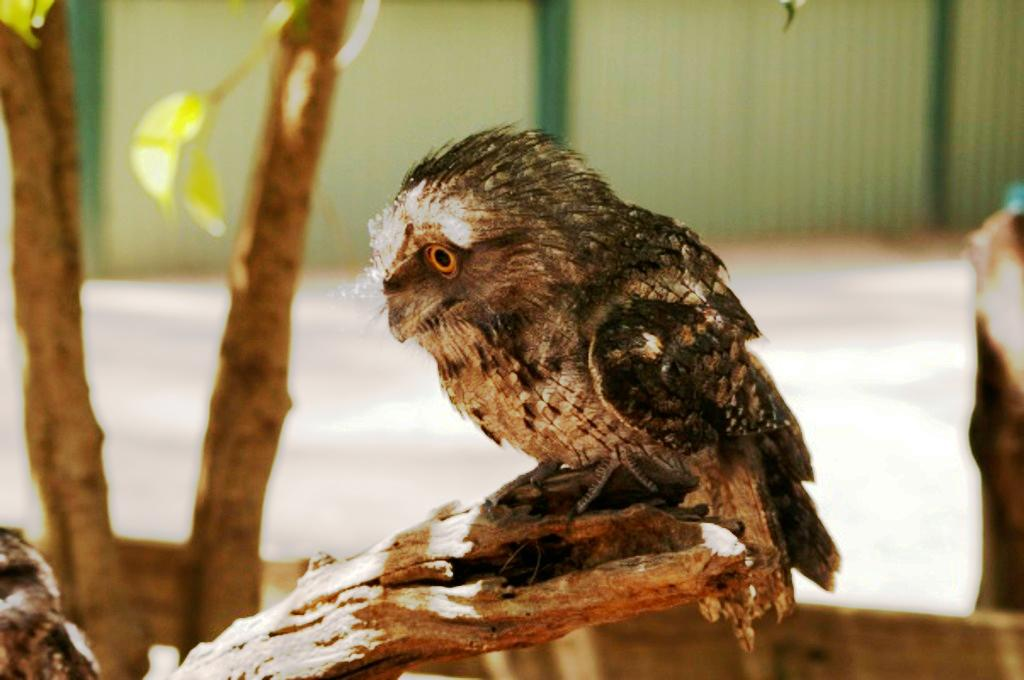Owl: (325, 118, 847, 584)
